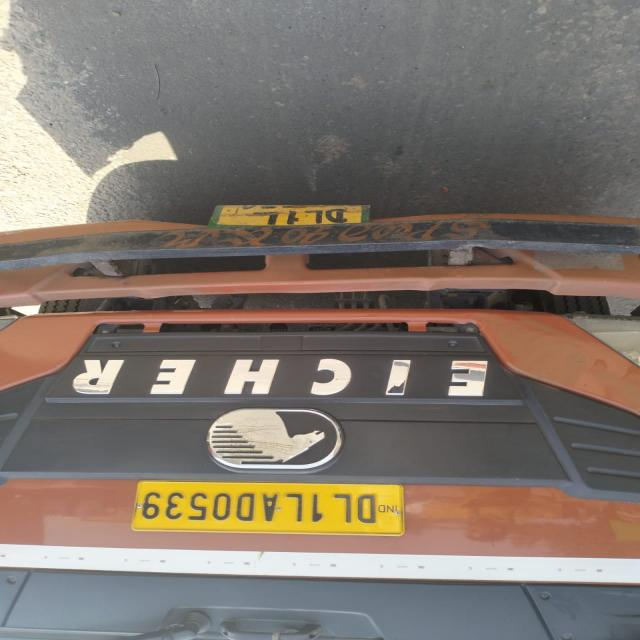License-plate: (125, 483, 399, 540)
